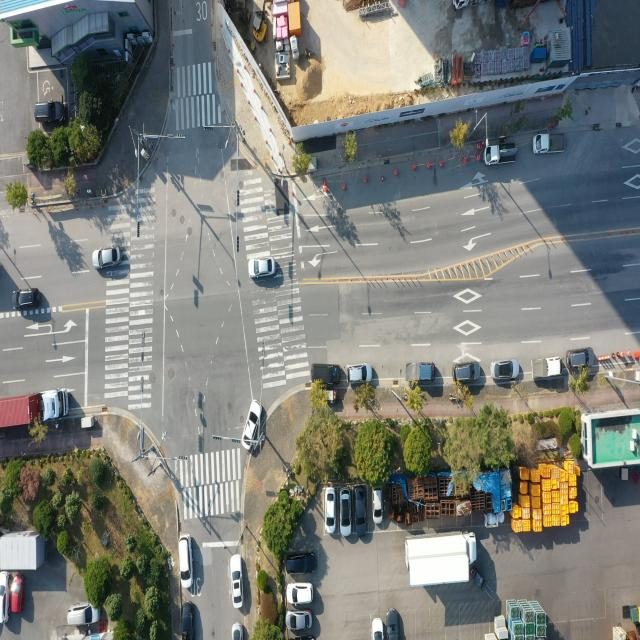car: (243, 399, 262, 449), (68, 604, 100, 630), (36, 99, 68, 123), (313, 362, 344, 386), (179, 535, 192, 589), (285, 554, 315, 577), (354, 487, 368, 536), (491, 358, 520, 381), (93, 246, 120, 270), (232, 556, 244, 608), (454, 362, 481, 385), (347, 362, 373, 384), (16, 288, 42, 310), (567, 348, 593, 370), (248, 260, 276, 280), (342, 488, 354, 534), (289, 584, 314, 606), (325, 489, 336, 535), (288, 614, 312, 633), (182, 600, 193, 640), (385, 608, 398, 640), (373, 489, 383, 523), (374, 618, 386, 640), (233, 623, 244, 640)
large_truck: (0, 391, 70, 432)
medium_truck: (403, 533, 478, 590)
small_truck: (404, 359, 436, 384), (532, 356, 564, 380), (485, 143, 517, 165), (532, 133, 564, 155)
